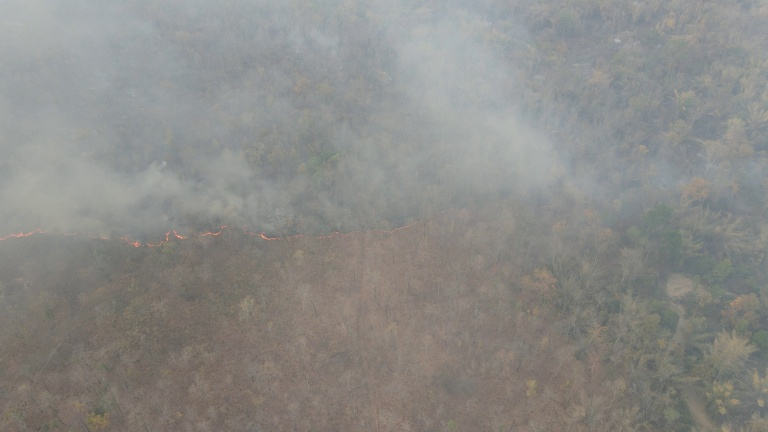fire: (1, 207, 478, 248)
smoke: (1, 1, 551, 259), (555, 1, 768, 223)
